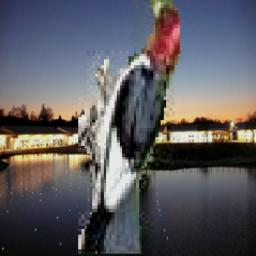Woodpecker: (79, 0, 183, 255)
